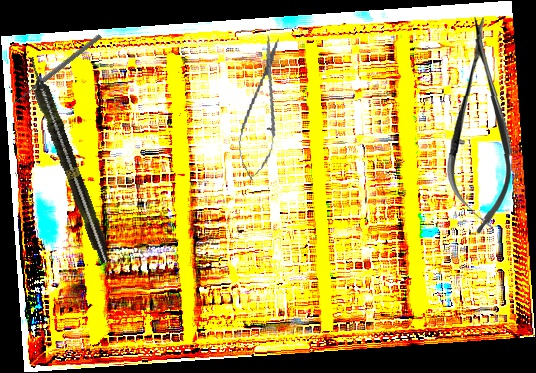Handpiece: (22, 54, 115, 266)
Micro Scissor: (445, 15, 517, 235), (232, 33, 292, 183)
Pusher: (11, 32, 103, 107)
